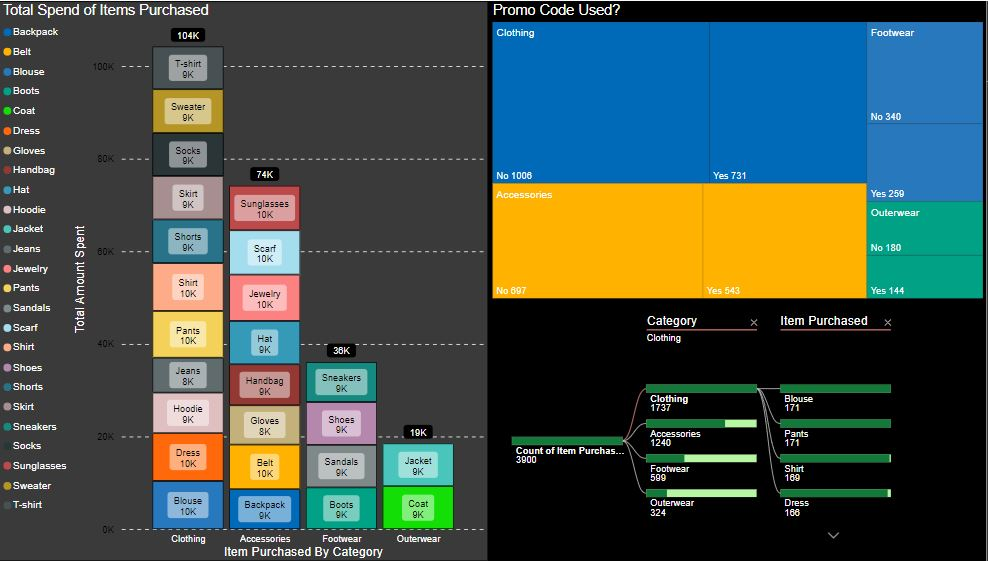

The dashboard page shown, as its layout file describes it:
{"tool":"powerbi","page":{"name":"ItemsPurchased","canvas":[1280,720],"ordinal":2},"visuals":[{"type":"columnChart","title":"Total Spend of Items Purchased","fields":{"Y":["Sum(shopping_trends.Purchase Amount (USD))"],"Category":["shopping_trends.Category"],"Series":["shopping_trends.Item Purchased"]},"box":[9.7,0,630.3,719.8],"z":0},{"type":"decompositionTreeVisual","fields":{"ExplainBy":["shopping_trends.Category","shopping_trends.Item Purchased"],"Analyze":["CountNonNull(shopping_trends.Item Purchased)"]},"box":[640,386.1,640,333.6],"z":1000},{"type":"treemap","title":"Promo Code Used?","fields":{"Group":["shopping_trends.Category"],"Values":["CountNonNull(shopping_trends.Item Purchased)"],"Details":["shopping_trends.Promo Code Used"]},"box":[640,0,640,386.1],"z":2000}]}

Visuals, with their boxes in screenshot pixels (x1, y1, x2, y2), scaled from the page's 1280x720 canvas onto the 988x561 screenshot:
"Total Spend of Items Purchased" columnChart: [x1=7, y1=0, x2=494, y2=560]
decompositionTreeVisual - shopping_trends.Category x shopping_trends.Item Purchased: [x1=494, y1=301, x2=987, y2=560]
"Promo Code Used?" treemap: [x1=494, y1=0, x2=987, y2=301]
